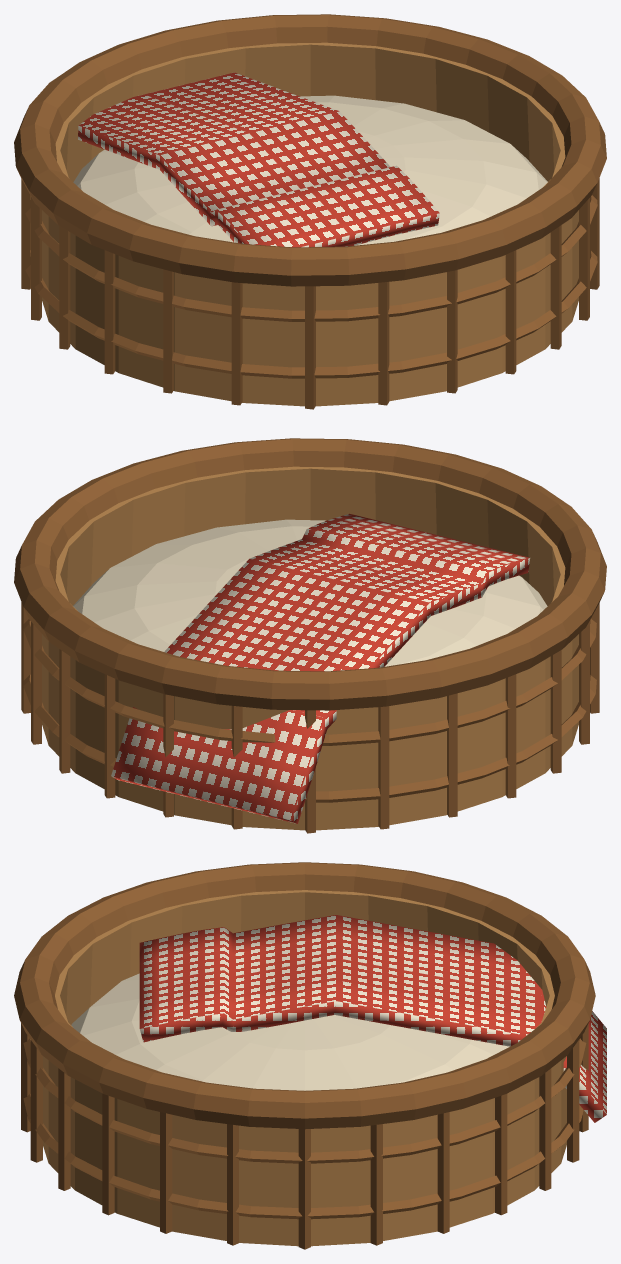
The model's file is gio_ngu.glb.
3 renders of one model, top to bottom at view 1: azimuth 30°, elevation 25°; view 2: azimuth 150°, elevation 25°; view 3: azimuth 270°, elevation 25°, orthographic. The views are drawn at different scales.
Parts seen in each view (by area): view 1: gio_ngu; view 2: gio_ngu; view 3: gio_ngu.
Part boxes in pixels (x1,y1,x2,y2): gio_ngu: (14, 14, 606, 409); gio_ngu: (14, 438, 606, 833); gio_ngu: (14, 862, 606, 1249).
Bounding box in the file's own units: 0.57 × 0.17 × 0.581.
4 materials, 1 textured.
